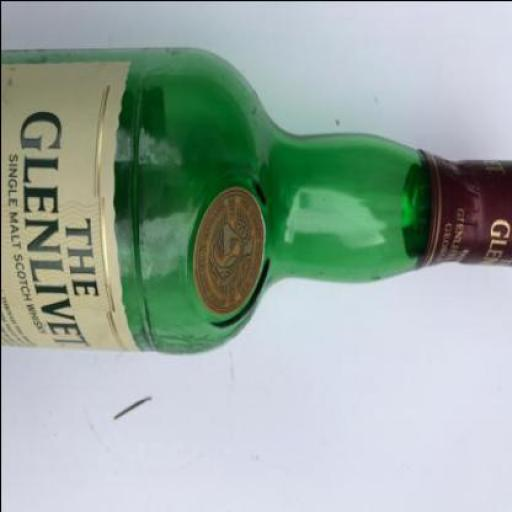glass: (0, 45, 434, 355)
